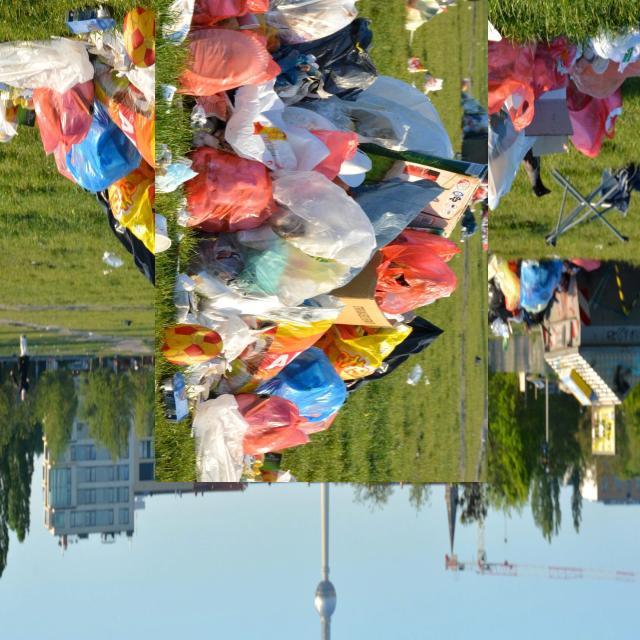garbage: (80, 0, 561, 408)
